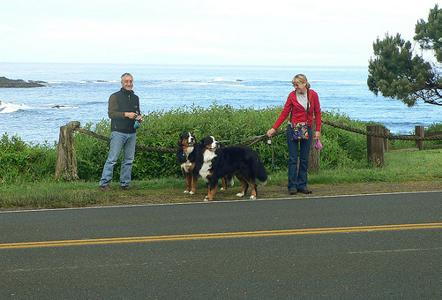person: (266, 75, 323, 194)
